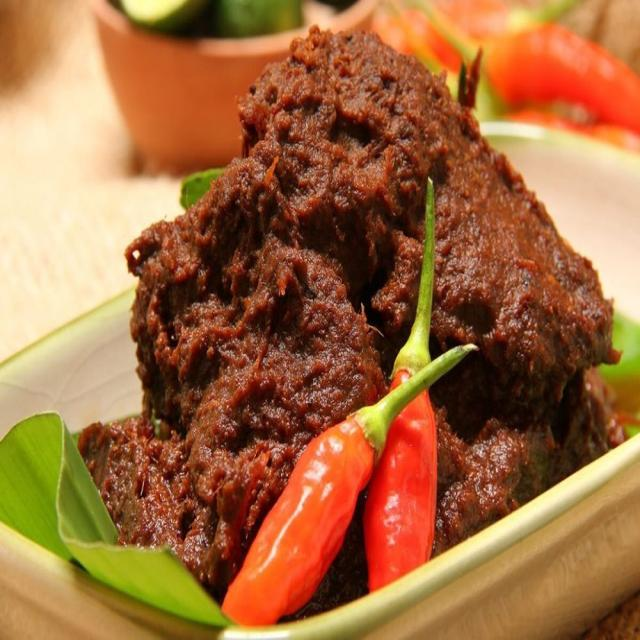Wet Waste: (74, 24, 620, 636)
